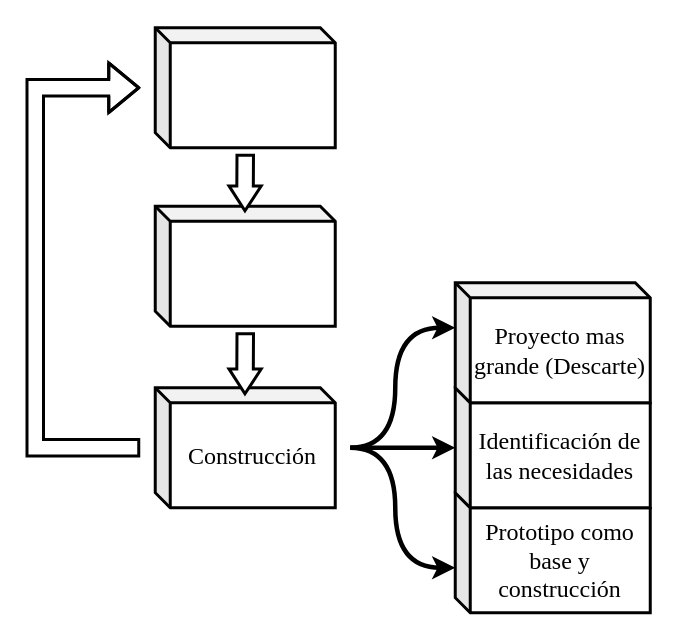
Some shapes in this 678 by 639 pixel diagram are drawn without their labels. The centre of each missing label's shape, as x and y in pixels:
Análisis y diseño: the point at 244,265
Requerimientos: the point at 244,87
